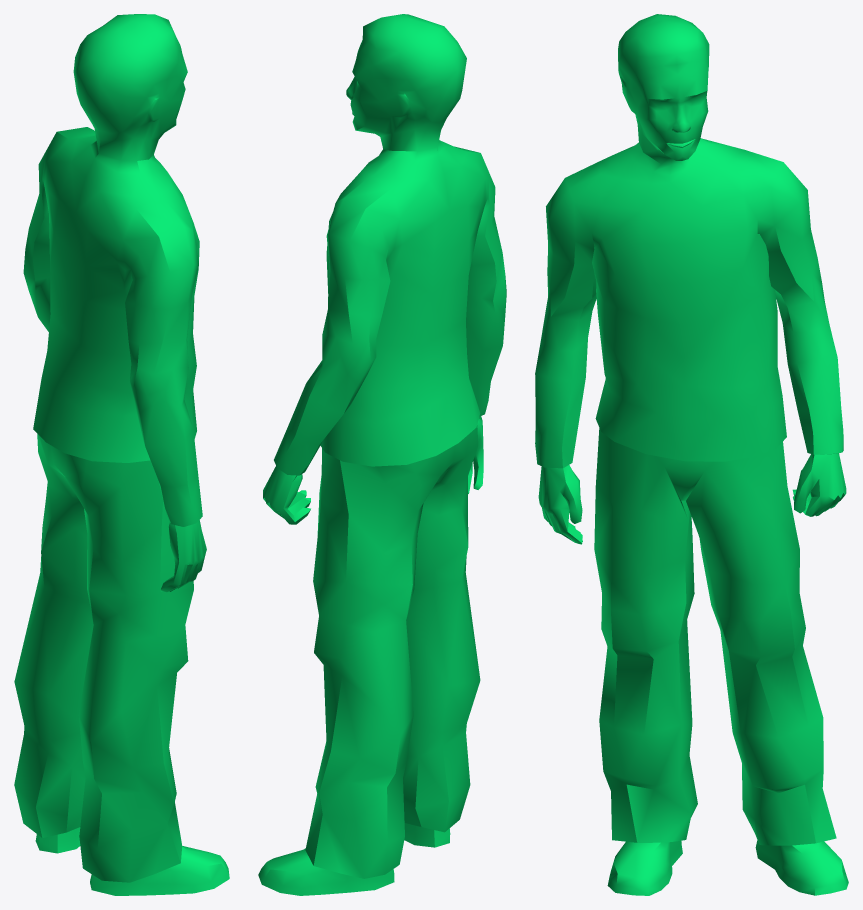
File: SM_Man_Stand_Watching.glb
3 renders of one model, left to right at view 1: azimuth 30°, elevation 25°; view 2: azimuth 150°, elevation 25°; view 3: azimuth 270°, elevation 25°, orthographic. The views are drawn at different scales.
Visible parts, largest first — view 1: SM_Man_Stand_Watching; view 2: SM_Man_Stand_Watching; view 3: SM_Man_Stand_Watching.
Part boxes in pixels (left/top/right/bottom): SM_Man_Stand_Watching: left=14, top=14, right=229, bottom=895; SM_Man_Stand_Watching: left=258, top=14, right=506, bottom=895; SM_Man_Stand_Watching: left=535, top=14, right=848, bottom=895.
Size of the model in its own units: 0.3342 by 1.84 by 0.6204.
